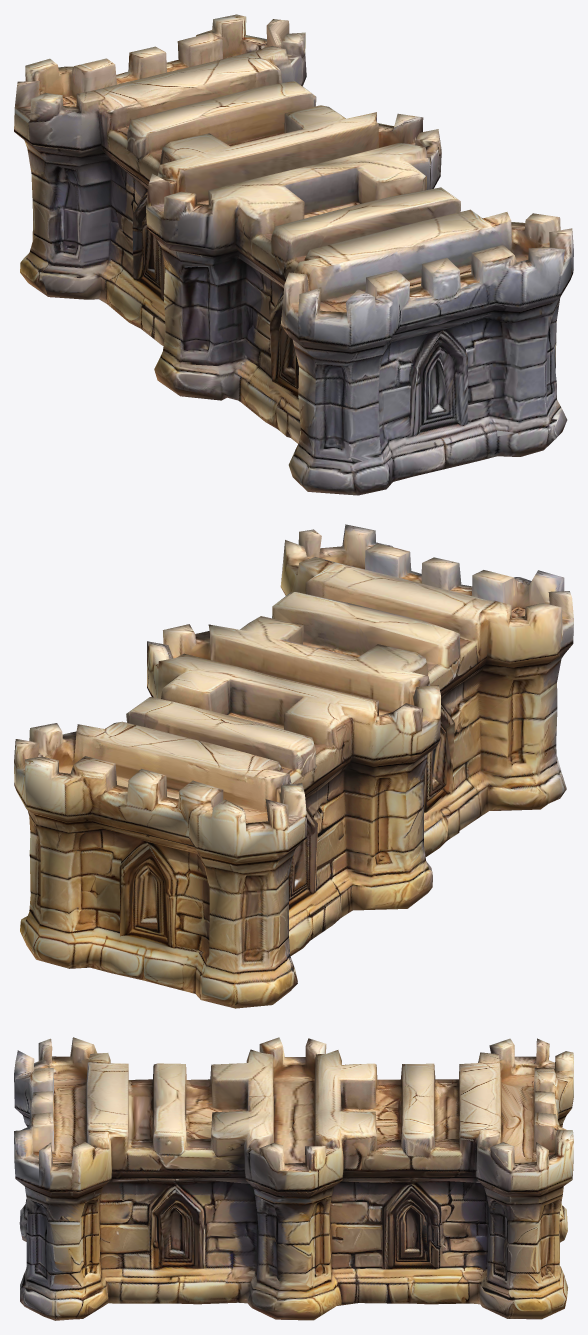
File: RoyalWall.fbx
The picture shows the model from 3 angles, top to bottom: view 1: azimuth 30°, elevation 25°; view 2: azimuth 150°, elevation 25°; view 3: azimuth 270°, elevation 25°; orthographic projection. The views are drawn at different scales.
Parts seen in each view (by area): view 1: tripo_node_8bd2c433-953b-4139-bdb5-1be24fe30e2c; view 2: tripo_node_8bd2c433-953b-4139-bdb5-1be24fe30e2c; view 3: tripo_node_8bd2c433-953b-4139-bdb5-1be24fe30e2c.
Boxes of the visible parts, <box> form: tripo_node_8bd2c433-953b-4139-bdb5-1be24fe30e2c: <box>14,14,573,495</box>; tripo_node_8bd2c433-953b-4139-bdb5-1be24fe30e2c: <box>14,524,573,1008</box>; tripo_node_8bd2c433-953b-4139-bdb5-1be24fe30e2c: <box>14,1037,573,1320</box>.
Size of the model in its own units: 48.99 by 34.33 by 100.
Materials: 1 (1 with a texture image).
